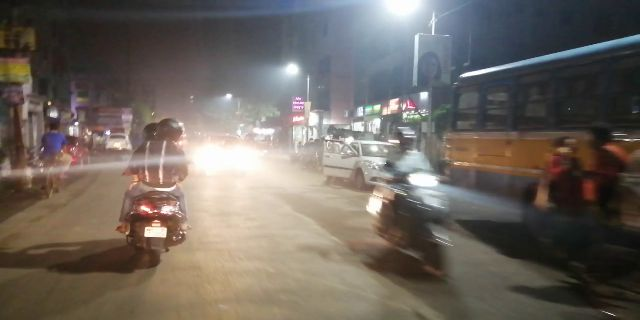Bus: (443, 37, 640, 224)
Car: (330, 138, 394, 190)
Motorbike: (367, 125, 455, 282), (125, 112, 195, 265)
